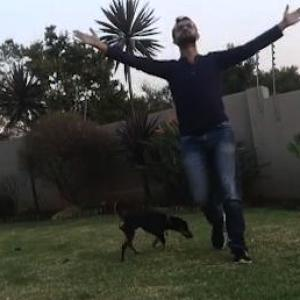takeoff: (103, 27, 292, 242)
